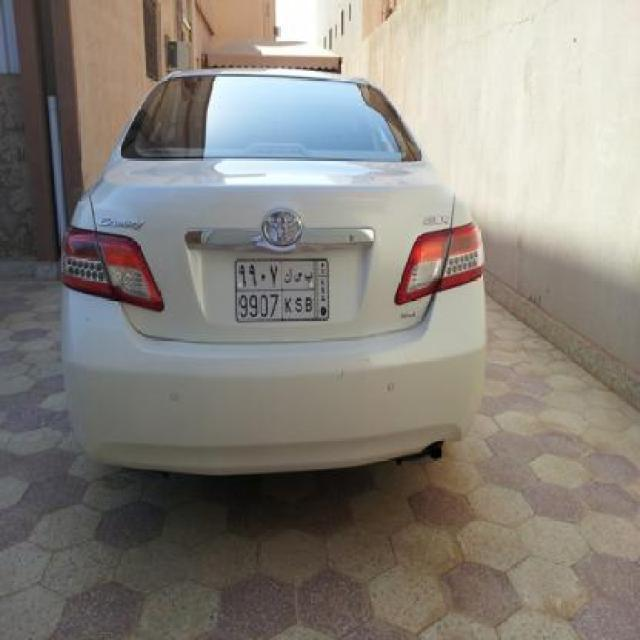license_plate: (233, 256, 332, 324)
